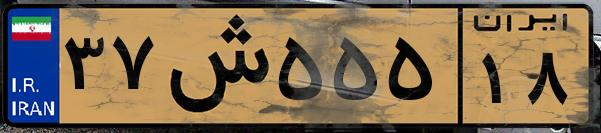1: (475, 38, 525, 113)
3: (57, 26, 110, 100)
5: (270, 28, 330, 110), (385, 28, 445, 110), (330, 28, 385, 110)
7: (110, 28, 158, 98)
8: (525, 38, 570, 115)
ش: (158, 12, 270, 120)
